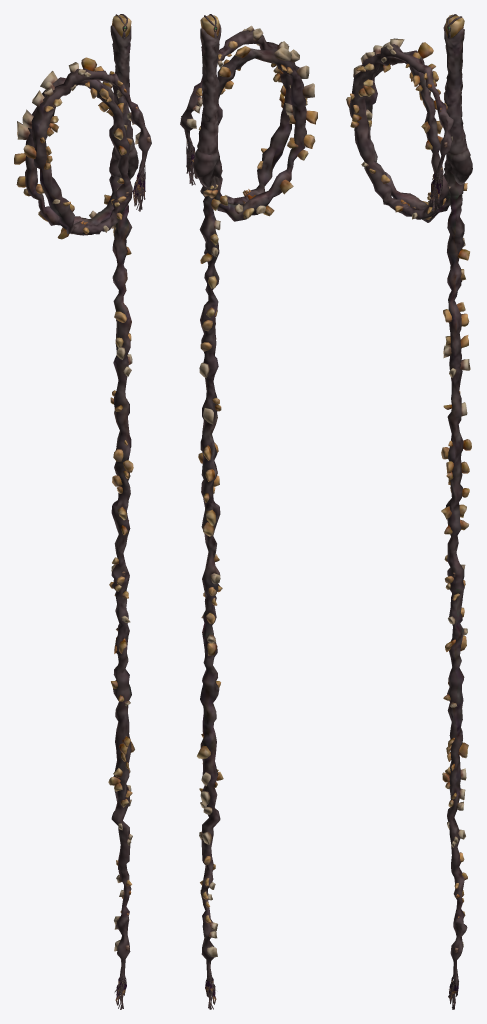
Rendered from weapon-wp_a_1209.glb.
The picture shows the model from 3 angles, left to right: view 1: azimuth 30°, elevation 25°; view 2: azimuth 210°, elevation 25°; view 3: azimuth 330°, elevation 25°; orthographic projection.
Parts seen in each view (by area): view 1: wp_a_1209_mesh; view 2: wp_a_1209_mesh; view 3: wp_a_1209_mesh.
Boxes of the visible parts, box(x1,y1,x2,y2) form: wp_a_1209_mesh: box(14, 14, 151, 1009); wp_a_1209_mesh: box(180, 14, 317, 1009); wp_a_1209_mesh: box(346, 14, 472, 1009).
Size of the model in its own units: 0.2942 by 2.32 by 0.1231.
2 materials, 2 textured.
